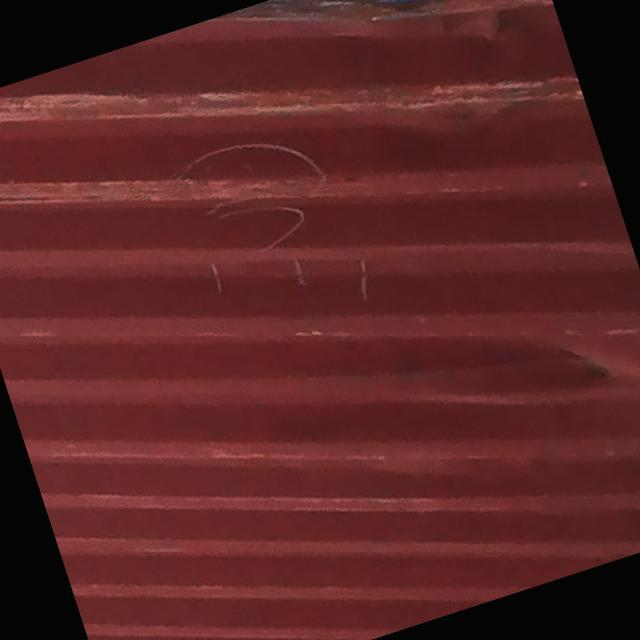dent: (425, 261, 640, 512)
